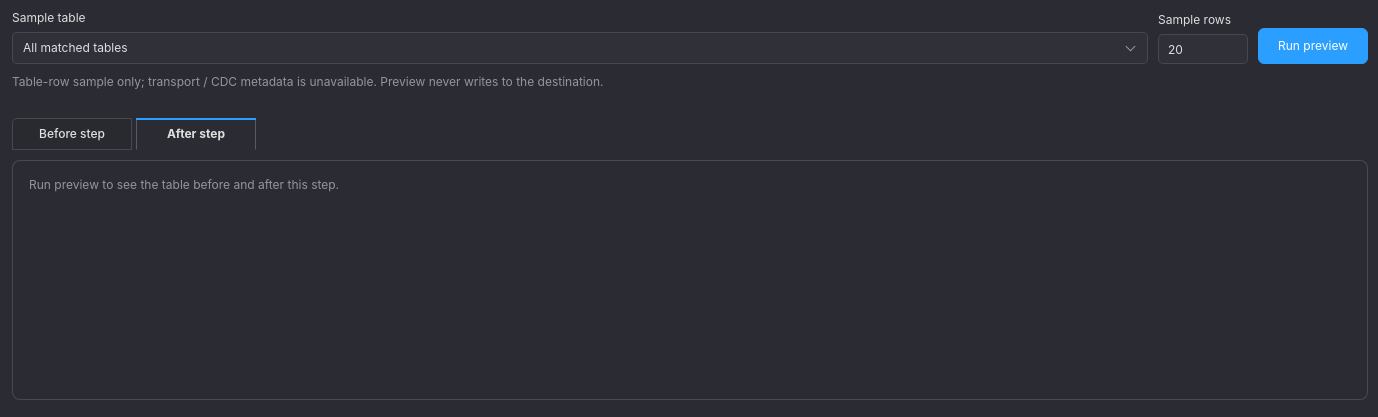
Scenario: does not substitute a default for an invalid sample row limit
Click the button named "Sample table" at {"x": 75, "y": 48}, box [12,32,1148,64]
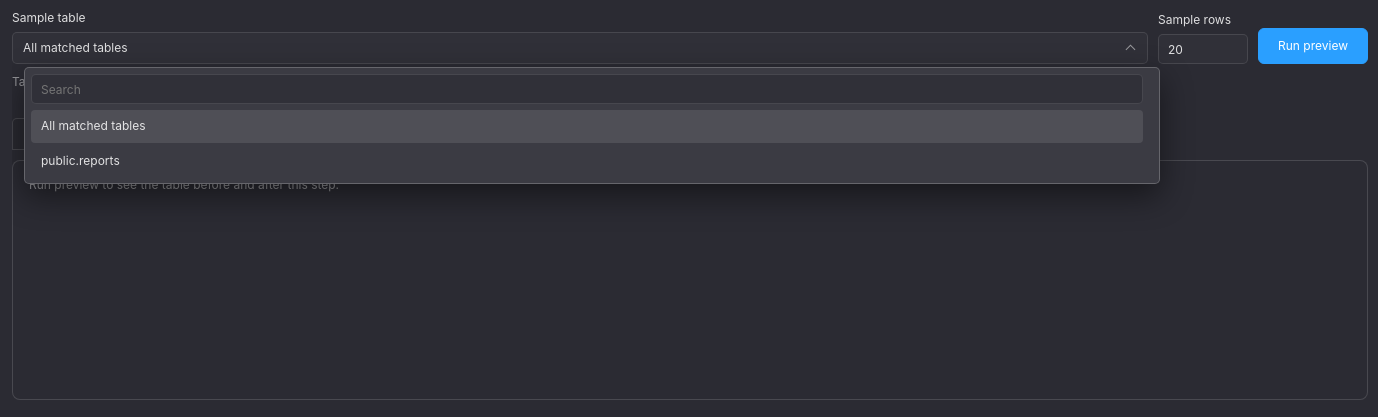
Click the option "public.reports" at {"x": 45, "y": 160}, box [31,145,1143,177]
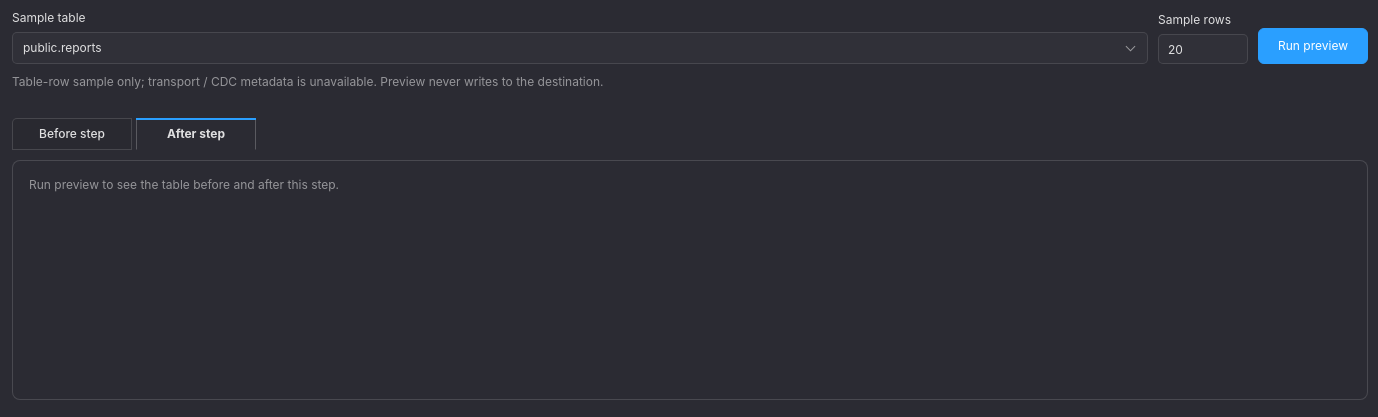
Replace the text in the number field labelled "Sample rows" with "0" at {"x": 1203, "y": 49}, box [1158,34,1248,64]
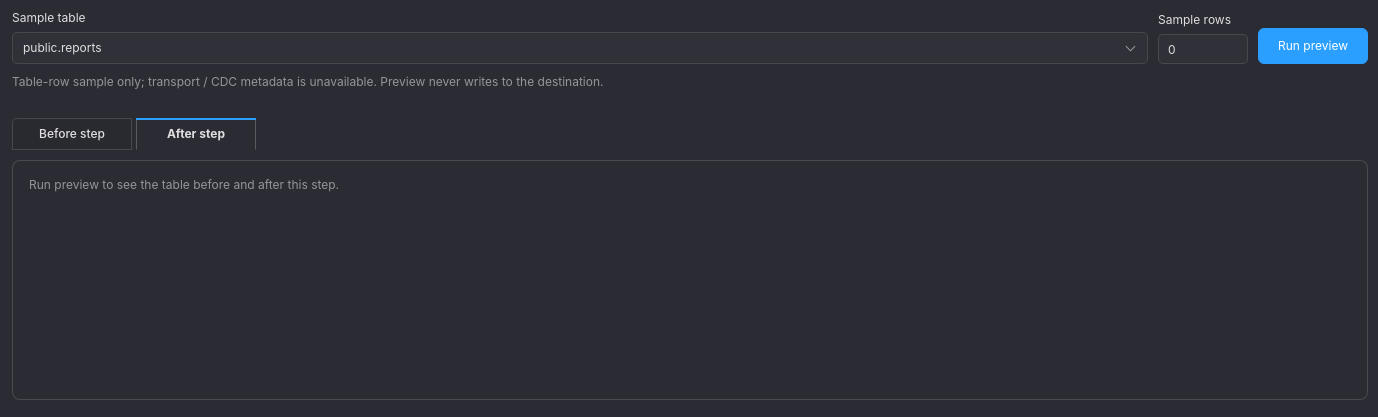
Click the button "Run preview" at {"x": 1313, "y": 46}, box [1258,28,1368,64]
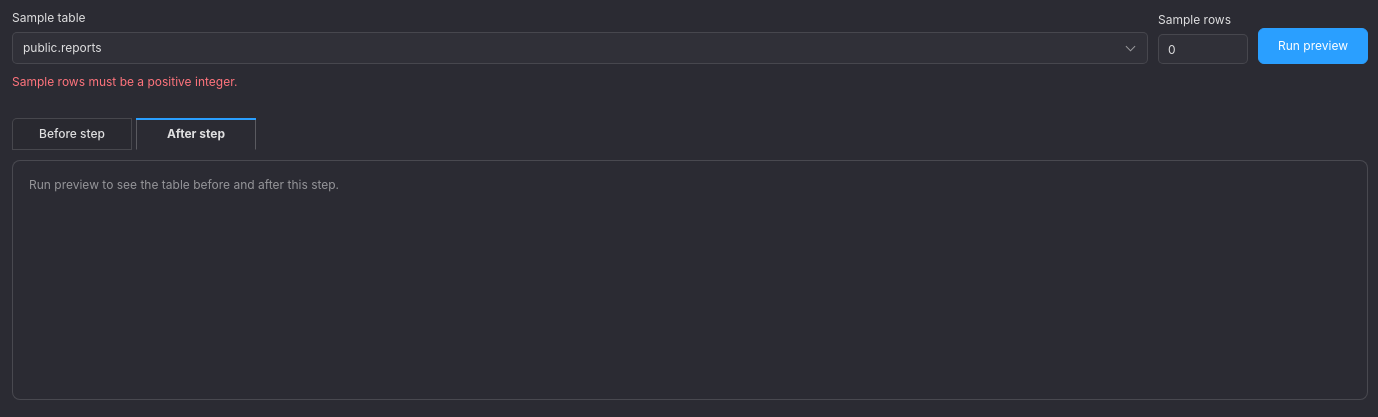
Now the message shows "positive integer", box [12,74,237,89]
